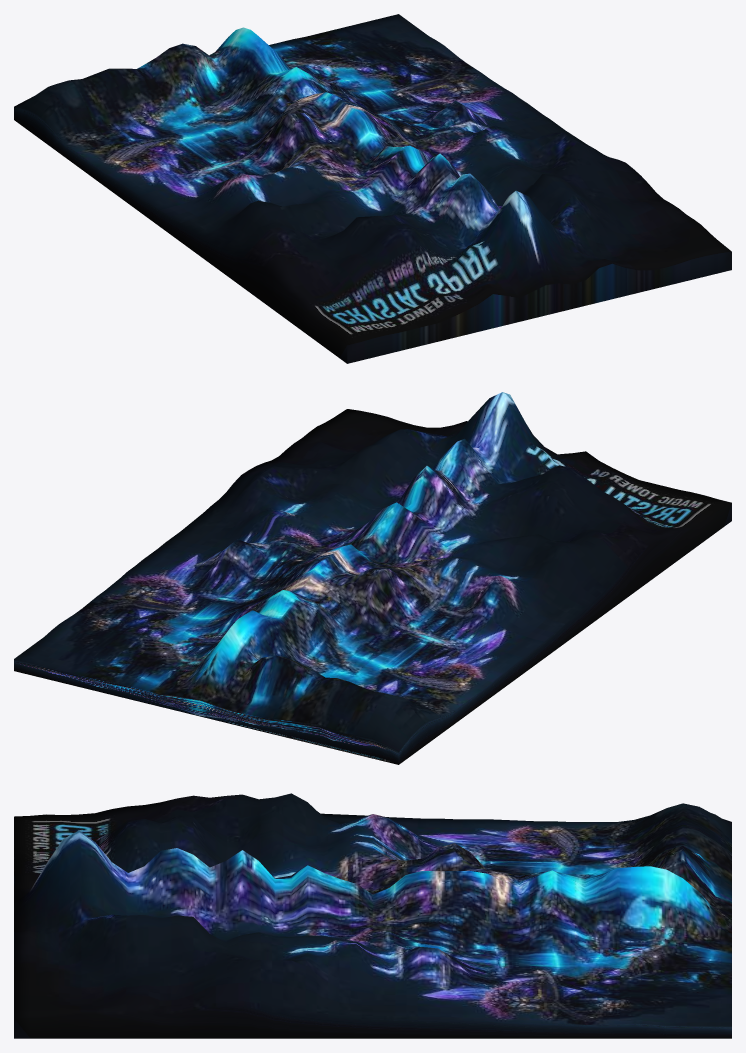
Rendered from TOWER_04_Crystal_Spire.glb.
The picture shows the model from 3 angles, top to bottom: view 1: azimuth 30°, elevation 25°; view 2: azimuth 150°, elevation 25°; view 3: azimuth 270°, elevation 25°; orthographic projection. The views are drawn at different scales.
Visible parts, largest first — view 1: TOWER_04_Crystal_Spire; view 2: TOWER_04_Crystal_Spire; view 3: TOWER_04_Crystal_Spire.
Boxes of the visible parts, bbox=[...] form: TOWER_04_Crystal_Spire: bbox=[14, 14, 731, 363]; TOWER_04_Crystal_Spire: bbox=[14, 392, 731, 764]; TOWER_04_Crystal_Spire: bbox=[14, 793, 731, 1038].
Bounding box in the file's own units: 2 × 0.51 × 3.
Materials: 1 (1 with a texture image).
